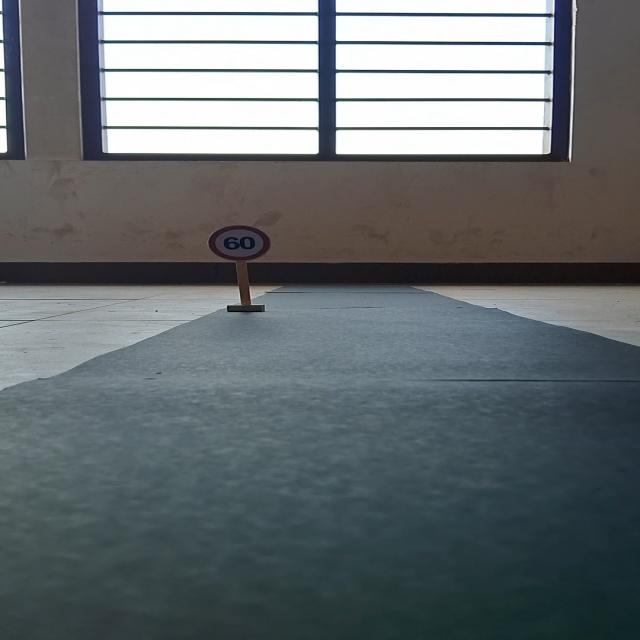Speed60: (209, 224, 271, 264)
